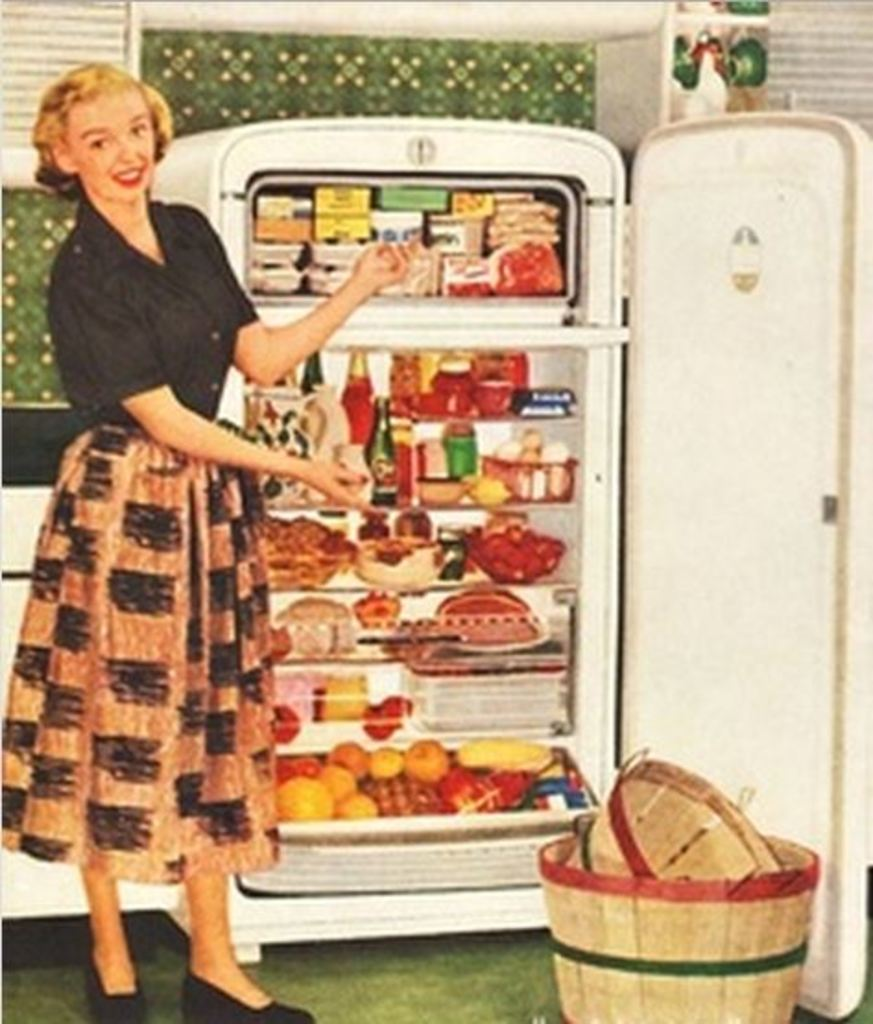refrigerator door: (635, 169, 842, 802)
